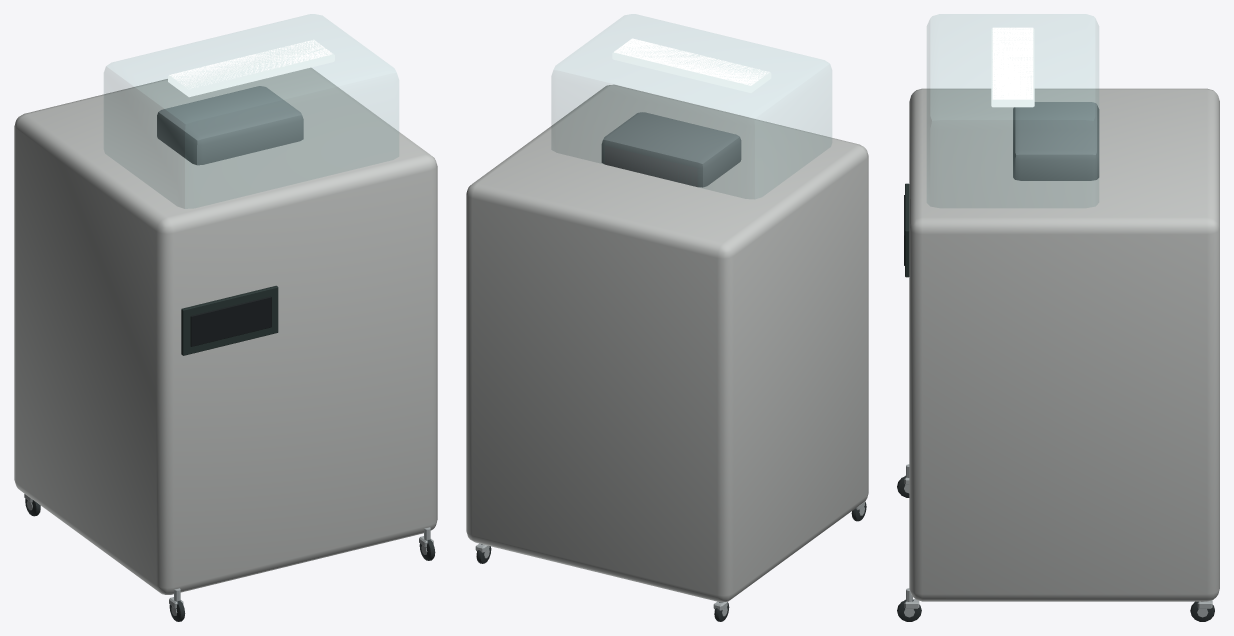
The model's file is sc-cryostat.glb.
The picture shows the model from 3 angles, left to right: view 1: azimuth 30°, elevation 25°; view 2: azimuth 150°, elevation 25°; view 3: azimuth 270°, elevation 25°; orthographic projection. The views are drawn at different scales.
Parts seen in each view (by area): view 1: sc-cryostat; view 2: sc-cryostat; view 3: sc-cryostat.
Boxes of the visible parts, x1,y1,x2,y2 form: sc-cryostat: (14,14,437,621); sc-cryostat: (466,14,868,621); sc-cryostat: (897,14,1219,621).
Bounding box in the file's own units: 0.76 × 1.27 × 0.7488.
